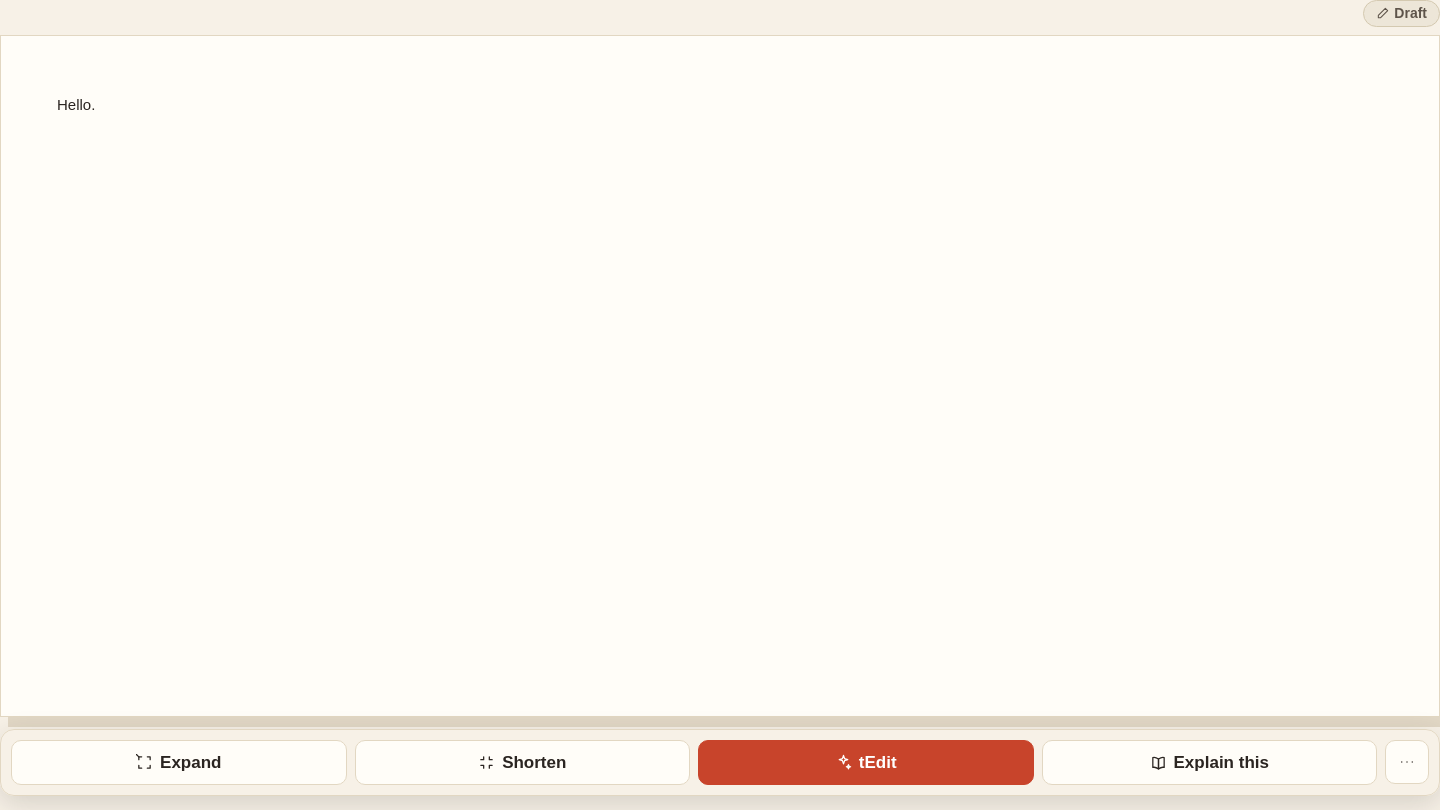
SectionEditor revision-bound TED edits › offers explanation directly beside editing without opening the more menu
What coordinates should you click on to do the following:
click the button "Explain this"
I would click on:
 (1209, 762)
Its box is [1042,740,1377,785].
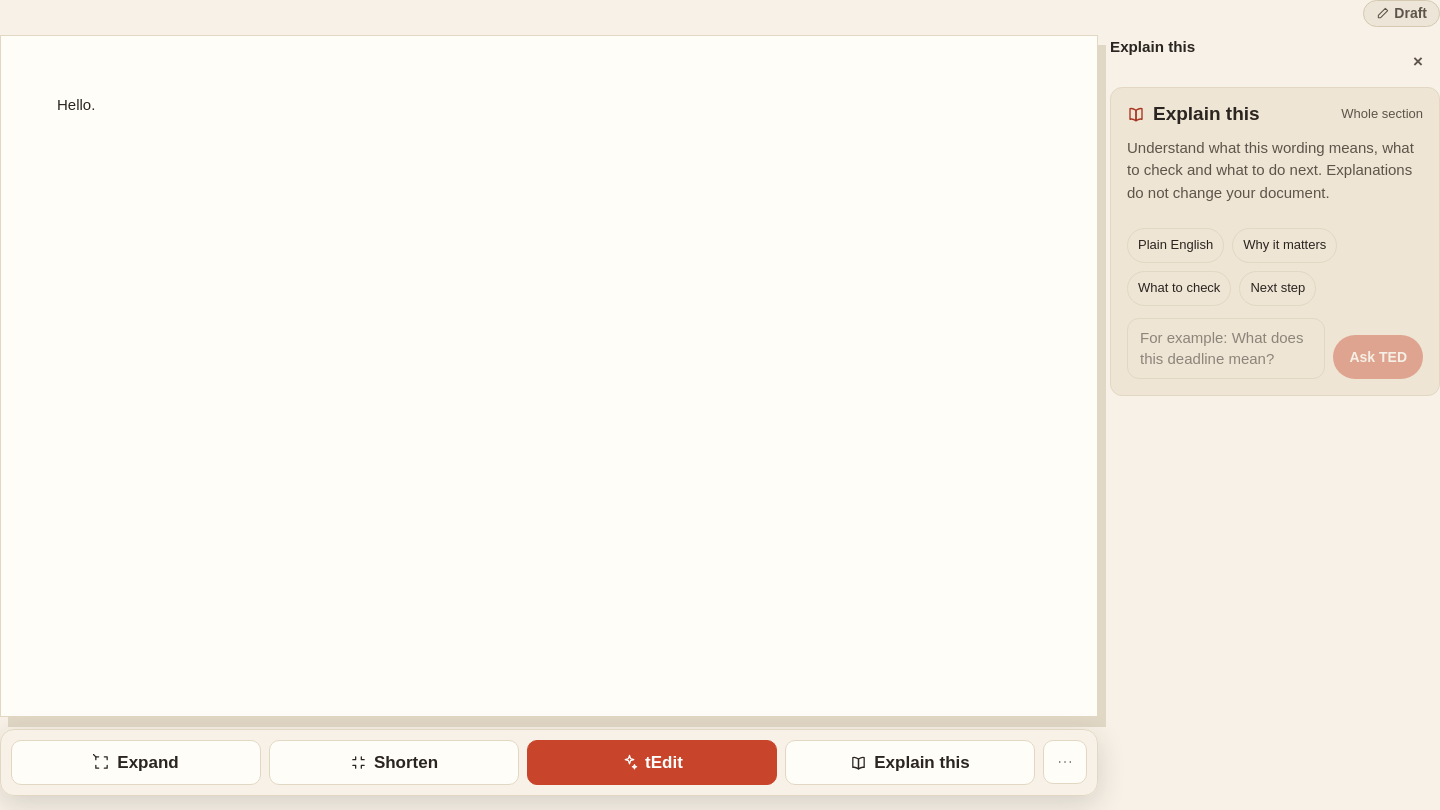
Expected: the text box named "Ask TED to explain the section" is shown, [1127,318,1325,379]
